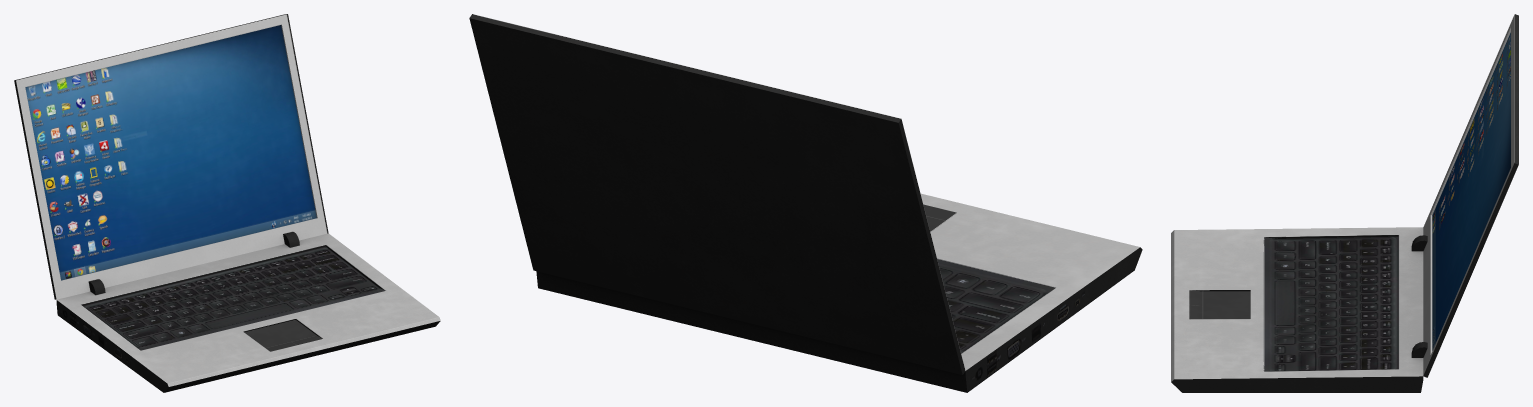
File: laptopAvansGrey.fbx
3 views of the same model, side by side, from view 1: azimuth 30°, elevation 25°; view 2: azimuth 150°, elevation 25°; view 3: azimuth 270°, elevation 25° (orthographic). The views are drawn at different scales.
Visible parts, largest first — view 1: laptopAvansGrey; view 2: laptopAvansGrey; view 3: laptopAvansGrey.
Part boxes in pixels (box(x1,y1,x2,y2)): laptopAvansGrey: box(14, 14, 440, 392); laptopAvansGrey: box(469, 14, 1142, 392); laptopAvansGrey: box(1171, 14, 1518, 392).
Size of the model in its own units: 0.5152 by 0.3697 by 0.5071.
Materials: 1 (1 with a texture image).
